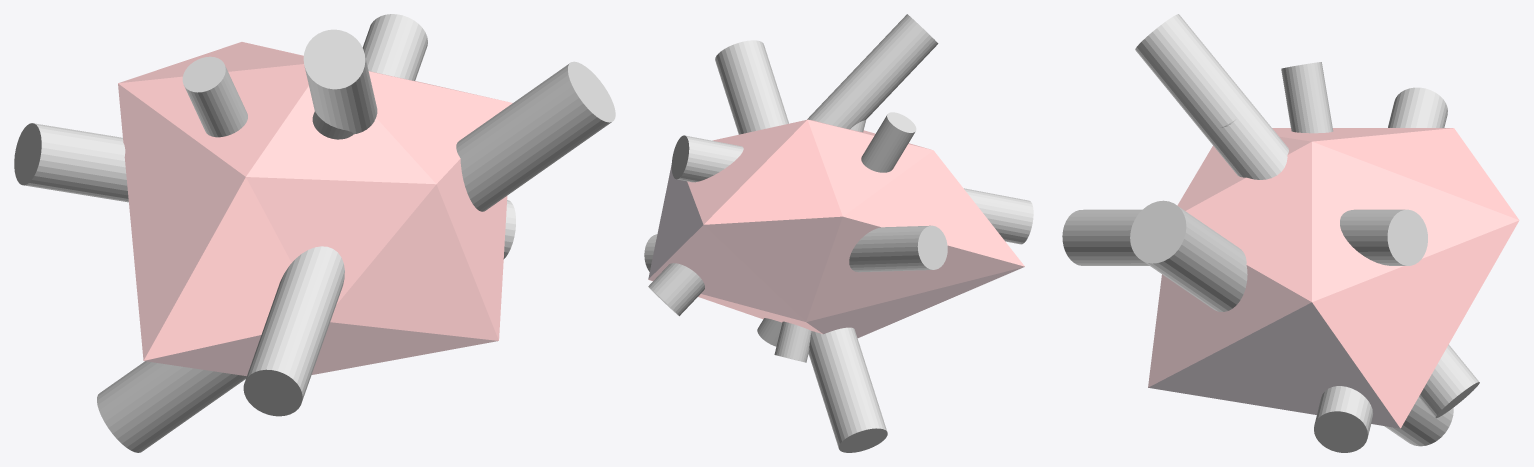
File: rock2.fbx
3 renders of one model, left to right at view 1: azimuth 30°, elevation 25°; view 2: azimuth 150°, elevation 25°; view 3: azimuth 270°, elevation 25°, orthographic. The views are drawn at different scales.
Visible parts, largest first — view 1: Icosphere, Cylinder.001, Cylinder.003, Cylinder.002, Cylinder.005, Cylinder.004; view 2: Icosphere, Cylinder.001, Cylinder.005, Cylinder.003, Cylinder.002, Cylinder.004, Cylinder; view 3: Icosphere, Cylinder.005, Cylinder.001, Cylinder.003, Cylinder.002, Cylinder.004.
Boxes of the visible parts, x1,y1,x2,y2 form: Icosphere: [118, 42, 512, 376]; Cylinder.001: [97, 61, 615, 452]; Cylinder.003: [243, 14, 427, 416]; Cylinder.002: [14, 123, 515, 259]; Cylinder.005: [303, 29, 377, 134]; Cylinder.004: [182, 56, 247, 137]; Icosphere: [648, 119, 1024, 337]; Cylinder.001: [715, 40, 887, 452]; Cylinder.005: [648, 14, 938, 316]; Cylinder.003: [671, 135, 1033, 244]; Cylinder.002: [644, 225, 947, 272]; Cylinder.004: [757, 112, 916, 346]; Cylinder: [774, 120, 865, 362]; Icosphere: [1148, 128, 1519, 428]; Cylinder.005: [1135, 14, 1479, 418]; Cylinder.001: [1130, 200, 1453, 446]; Cylinder.003: [1062, 209, 1427, 265]; Cylinder.002: [1314, 87, 1447, 452]; Cylinder.004: [1281, 62, 1333, 133].
Size of the model in its own units: 353 by 386 by 364.
